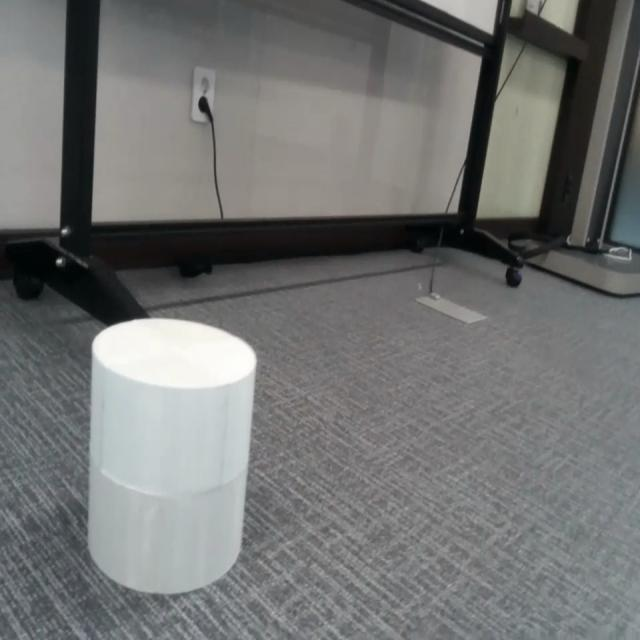cylinder: (87, 316, 257, 592)
